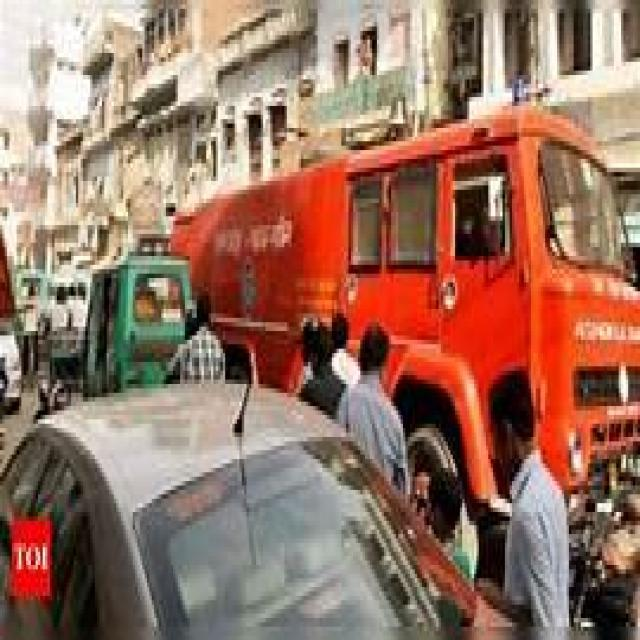Fire-engine: (168, 80, 638, 530)
